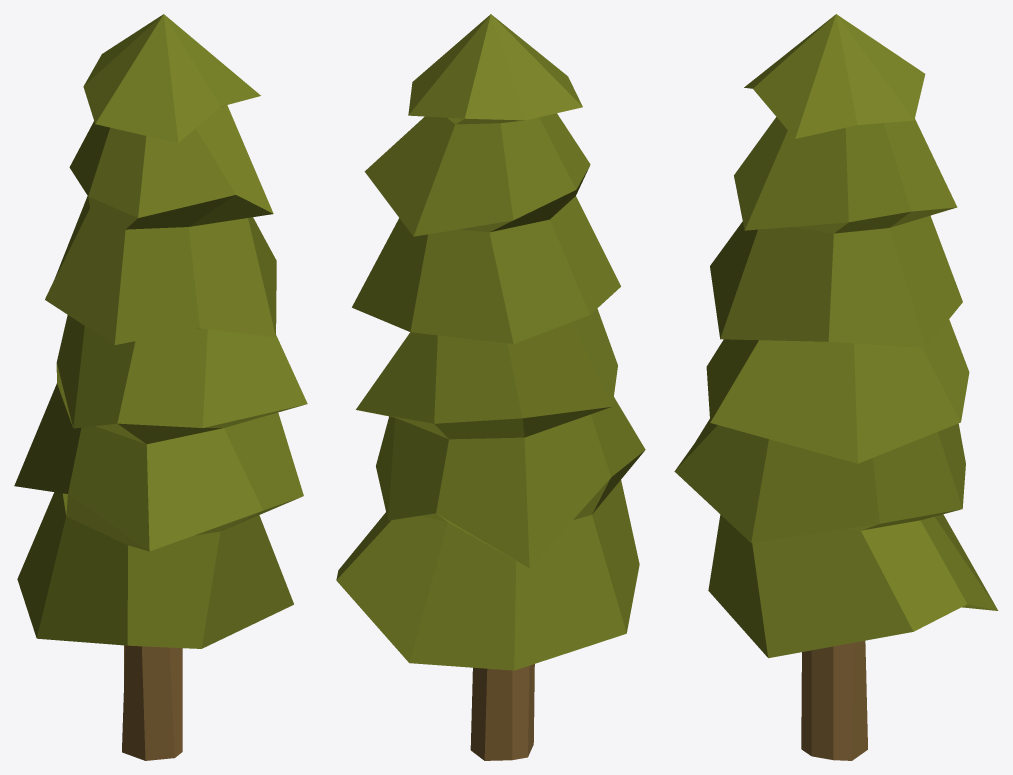
The model's file is Tree_pine_4.fbx.
3 renders of one model, left to right at view 1: azimuth 30°, elevation 25°; view 2: azimuth 150°, elevation 25°; view 3: azimuth 270°, elevation 25°, orthographic.
Visible parts, largest first — view 1: Tree_pine_4; view 2: Tree_pine_4; view 3: Tree_pine_4.
Boxes of the visible parts, x1,y1,x2,y2 form: Tree_pine_4: (14,14,307,760); Tree_pine_4: (336,14,645,760); Tree_pine_4: (674,14,998,760).
Size of the model in its own units: 0.1701 by 0.4849 by 0.1923.
